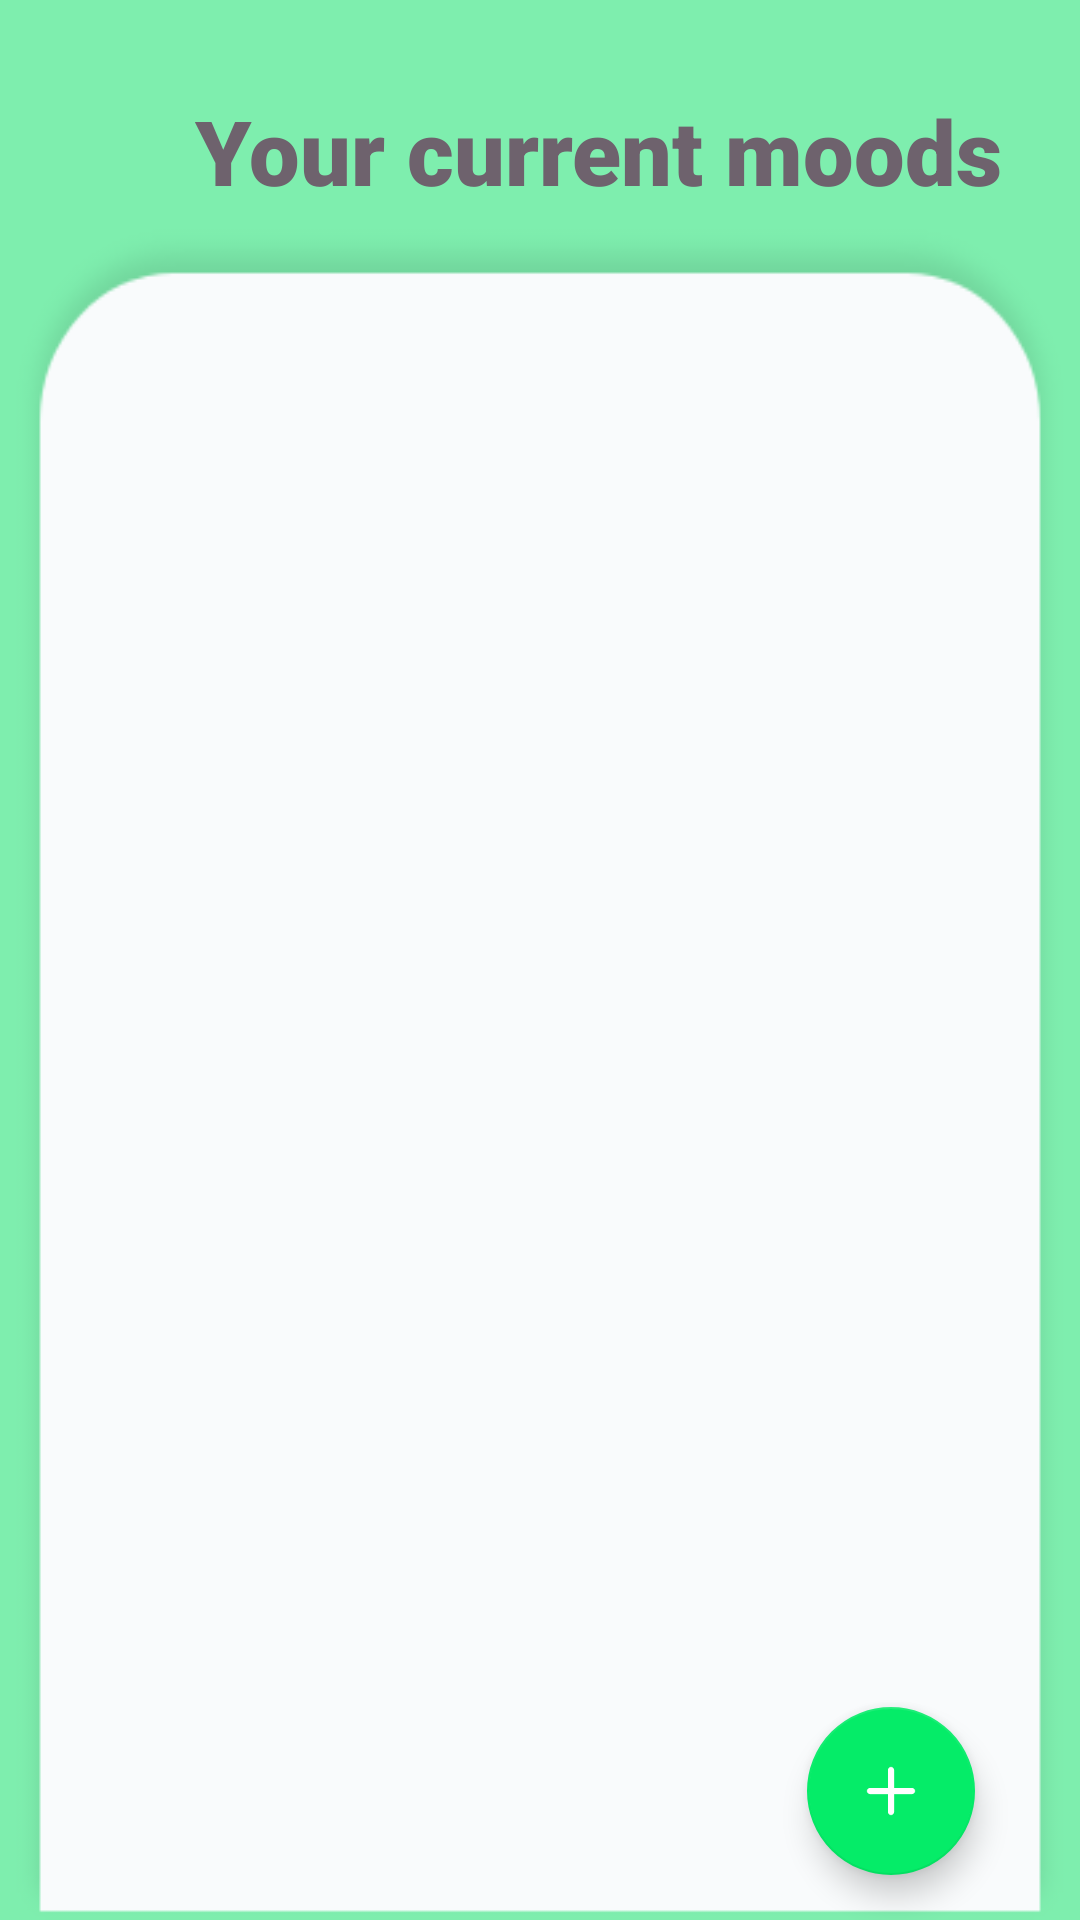

Point at icon controls on the screen. Image size 1080×1920, points as [x,y].
plus: [891,1791]
